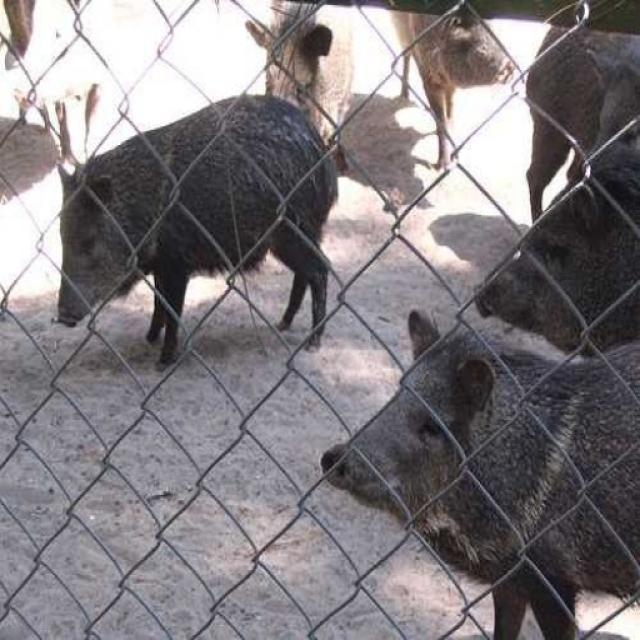pig: (318, 283, 628, 640), (44, 66, 339, 376), (385, 0, 520, 169)
